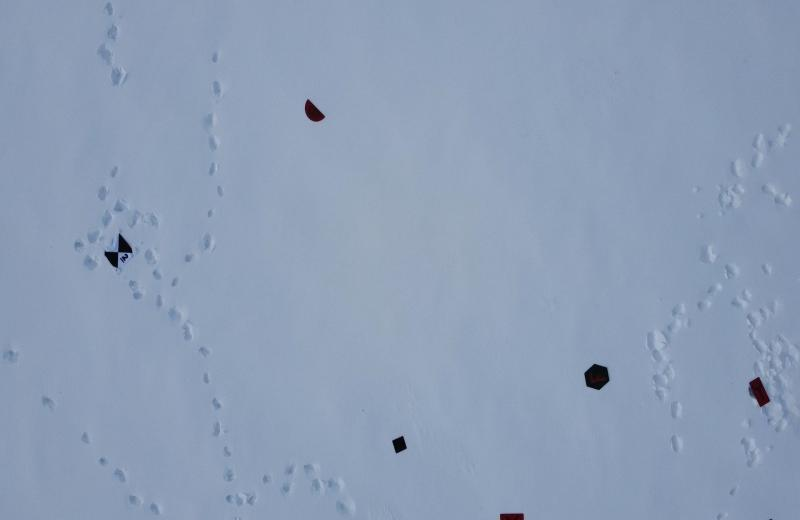Hexagon: (582, 358, 612, 392)
Rectangle: (745, 378, 773, 410)
Semi Circle: (302, 99, 326, 130)
Square: (389, 433, 412, 458)
